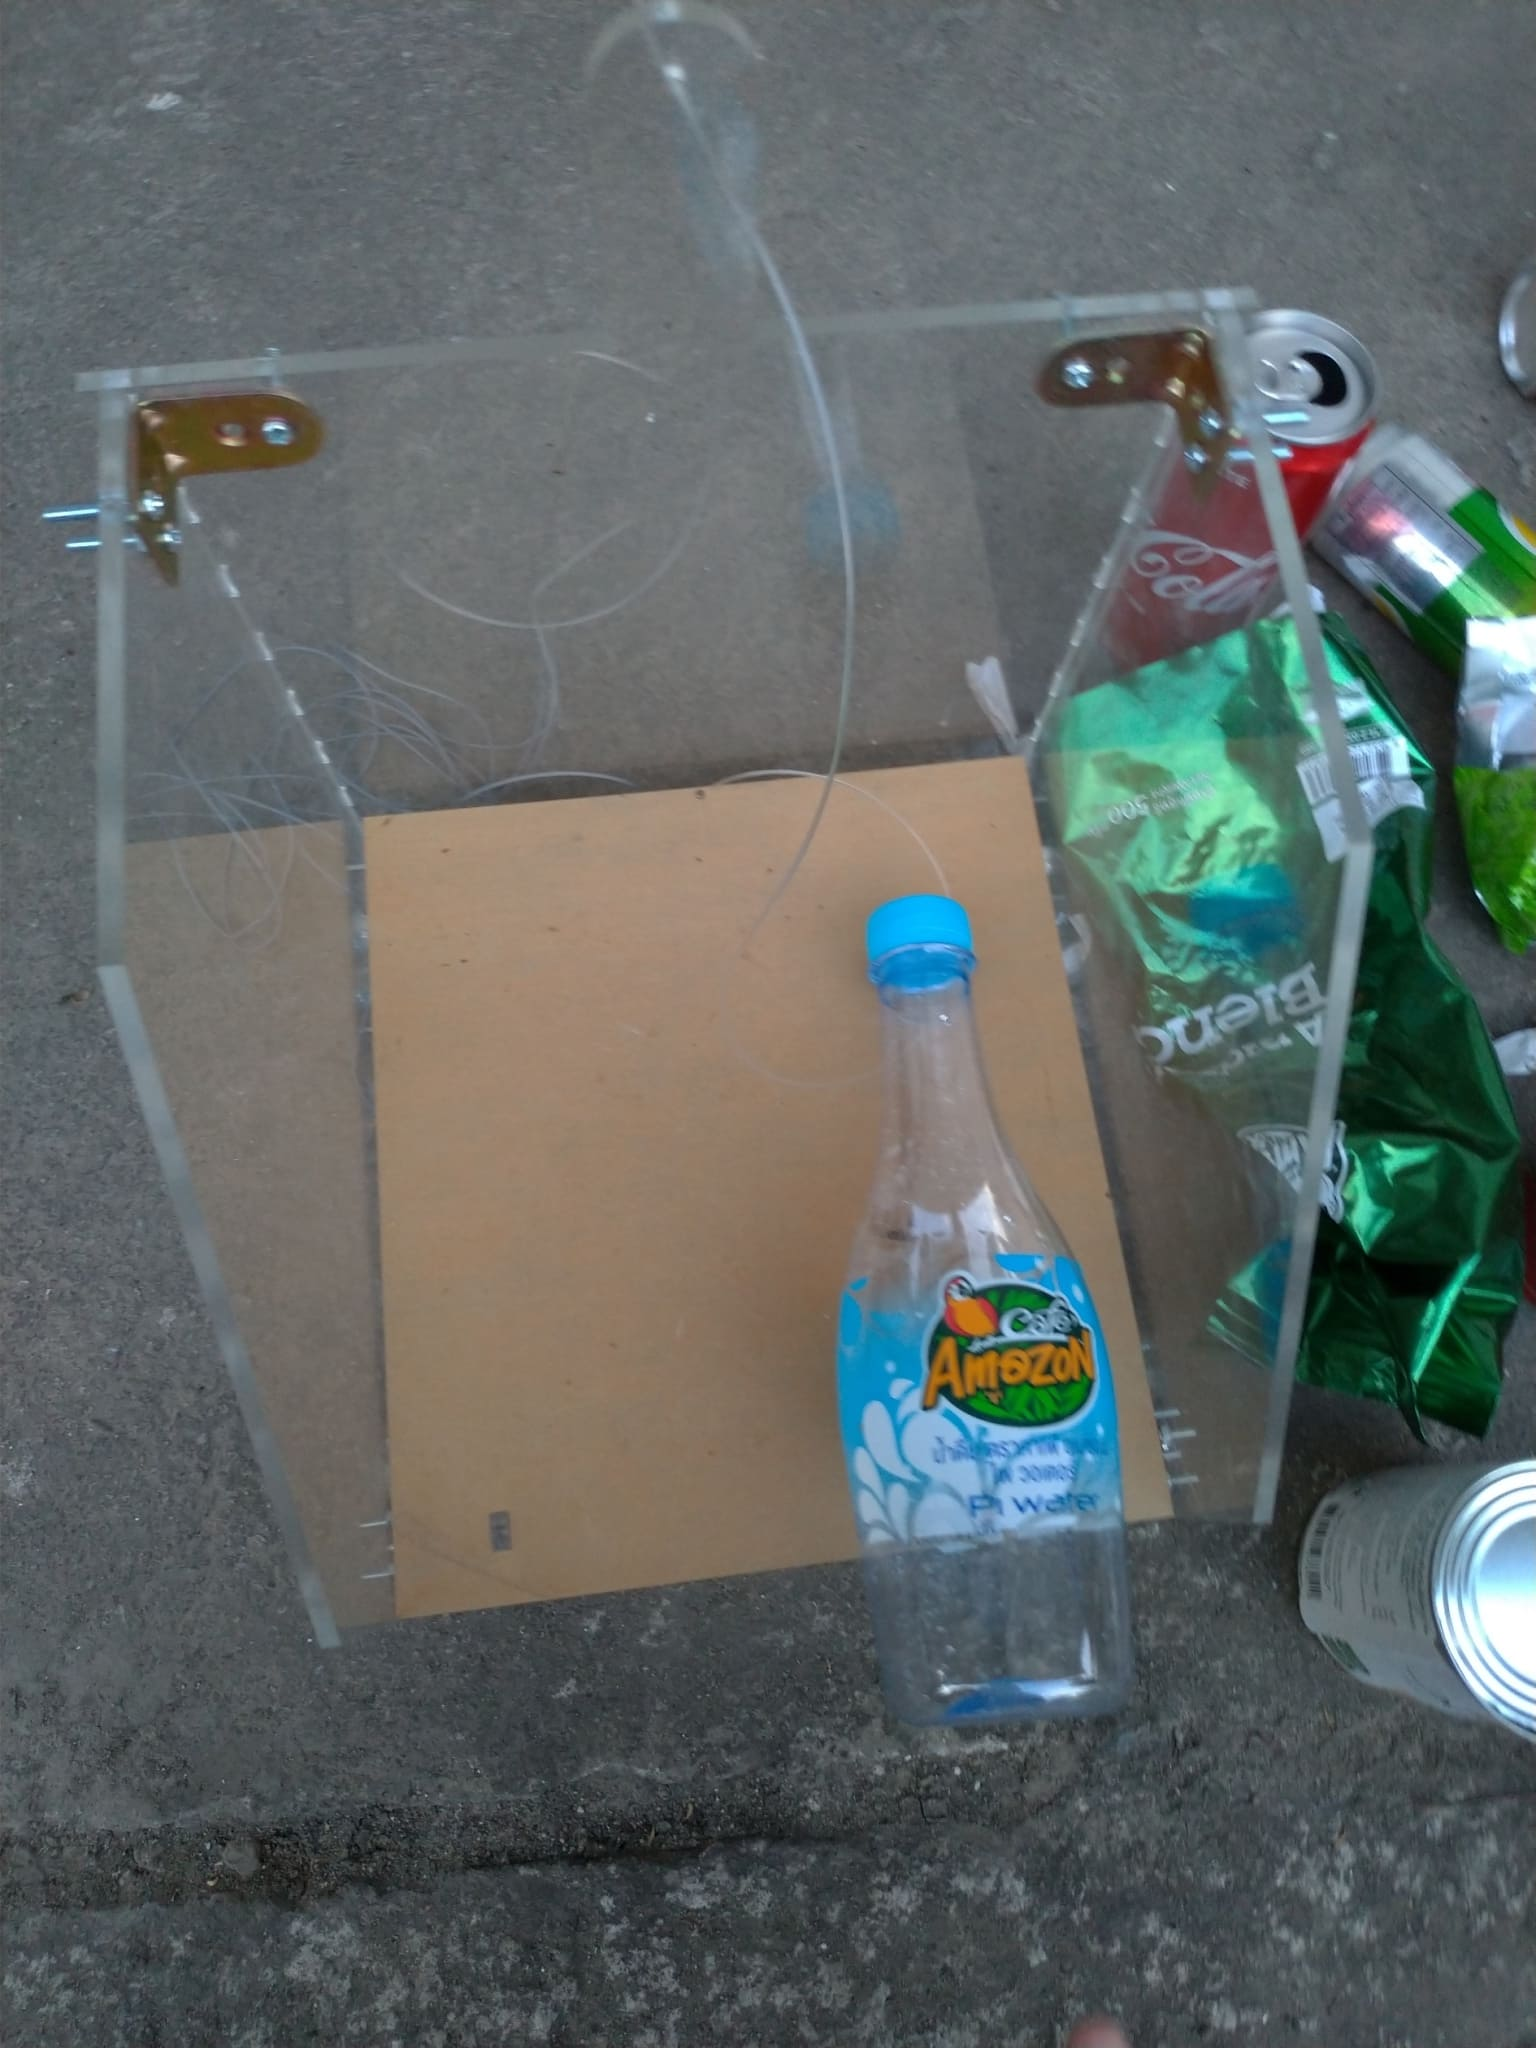AlCan: (1113, 318, 1371, 672), (1294, 1448, 1536, 1738), (1300, 431, 1533, 708)
Others: (1050, 601, 1510, 1435)
PlasticBottle: (833, 895, 1134, 1734)
